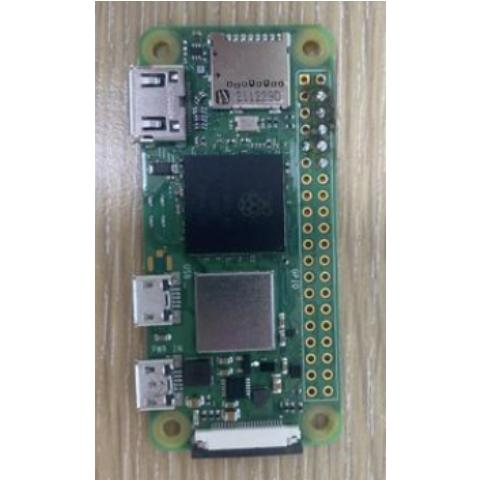Raspberry-Pi-Zero-2-W: (128, 23, 344, 461)
